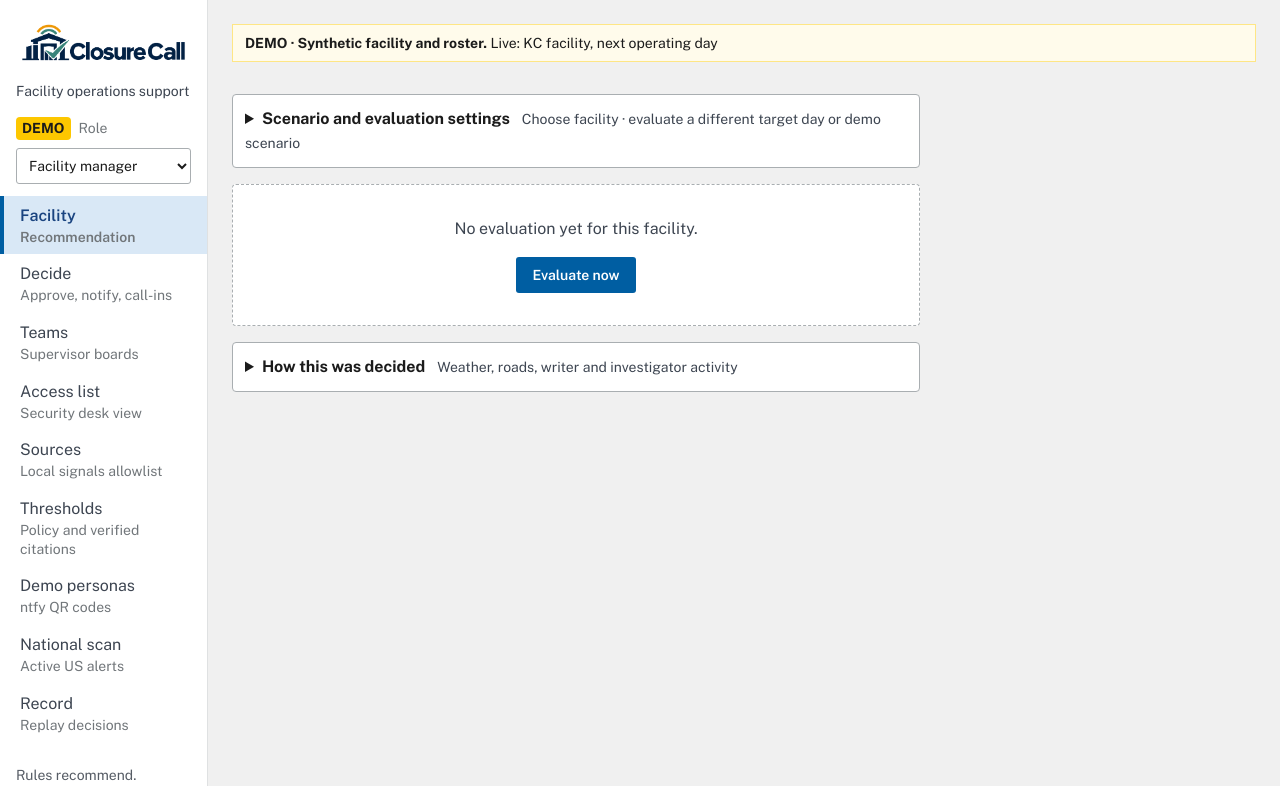
Test case: demo role switcher › switching to Employee picks the first demo persona and shows My status
Select "Employee" in the dropdown labelled "Role": (104, 166) [16, 148, 191, 184]
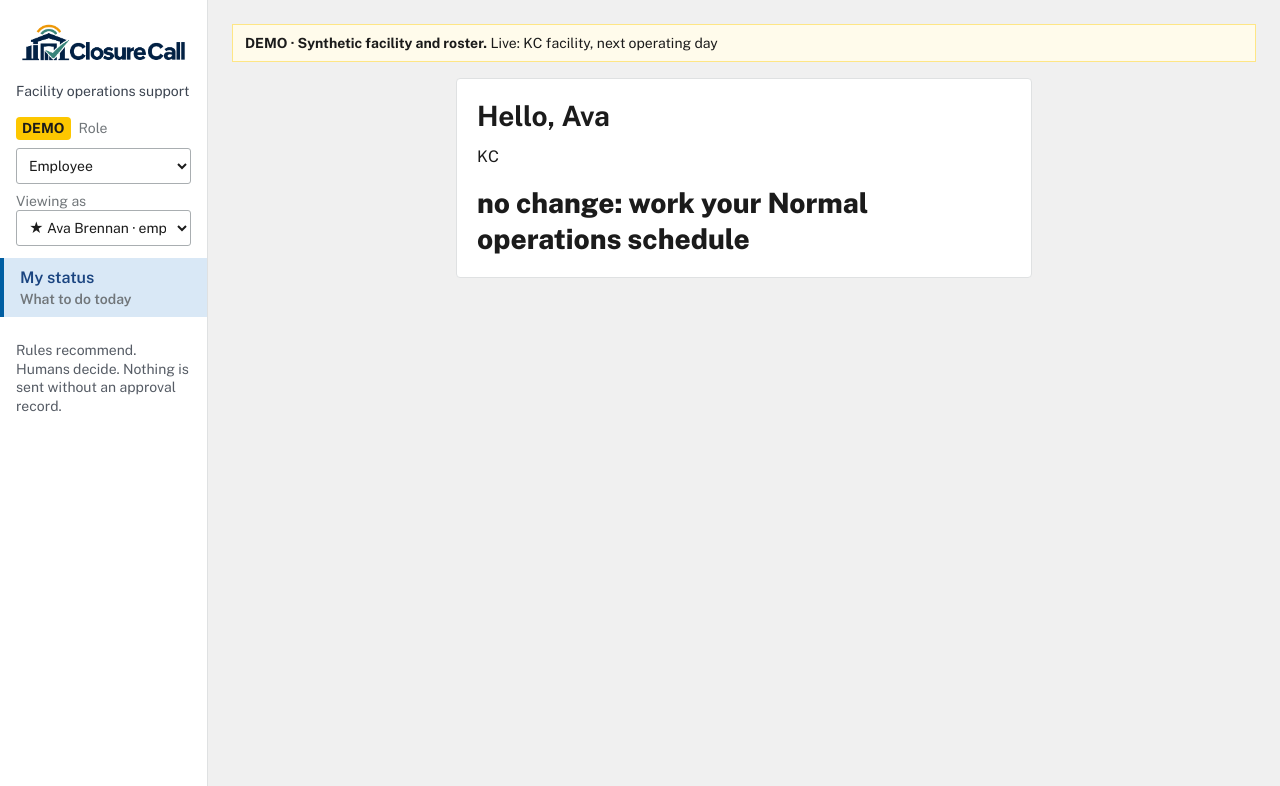
Check: the heading "Hello, Ava" is shown, box [477, 99, 610, 132]
Check: the dropdown labelled "Viewing as" shows "★ Ava Brennan · employee · emergency", box [16, 210, 191, 246]
